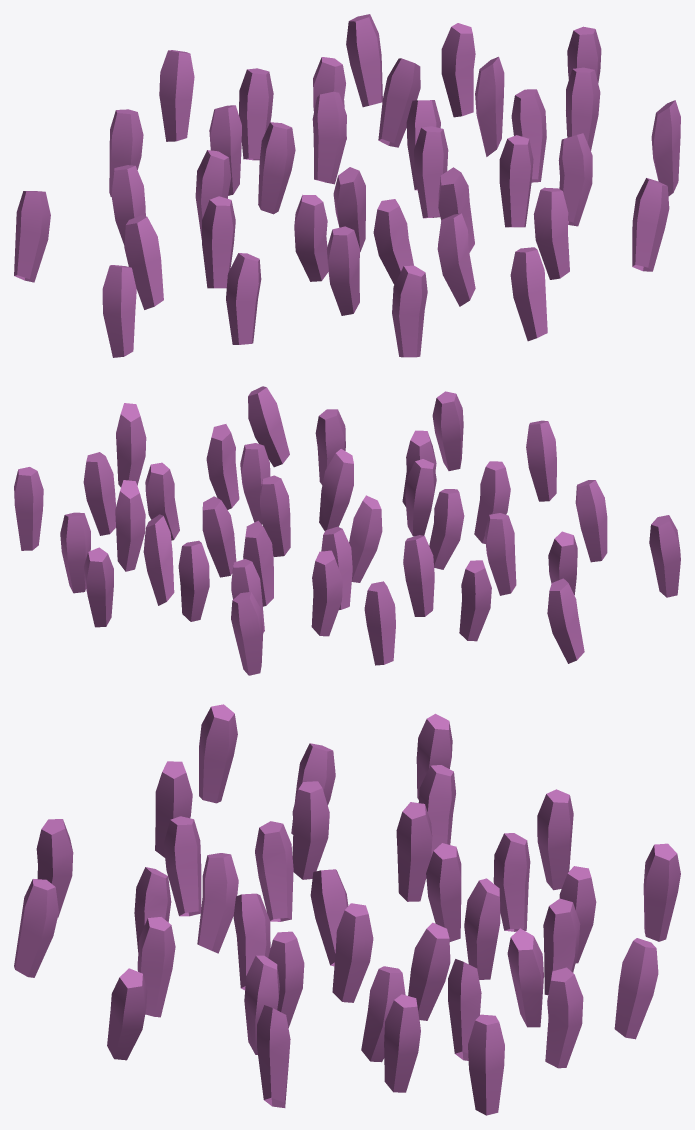
The model's file is coral_symbiosis_B_light.fbx.
3 renders of one model, top to bottom at view 1: azimuth 30°, elevation 25°; view 2: azimuth 150°, elevation 25°; view 3: azimuth 270°, elevation 25°, orthographic. The views are drawn at different scales.
Parts seen in each view (by area): view 1: coral_symbiosis_B_light; view 2: coral_symbiosis_B_light; view 3: coral_symbiosis_B_light.
Boxes of the visible parts, x1,y1,x2,y2 form: coral_symbiosis_B_light: (14,14,680,357); coral_symbiosis_B_light: (14,386,680,675); coral_symbiosis_B_light: (14,704,680,1115).
Bounding box in the file's own units: 119 × 19.53 × 102.
